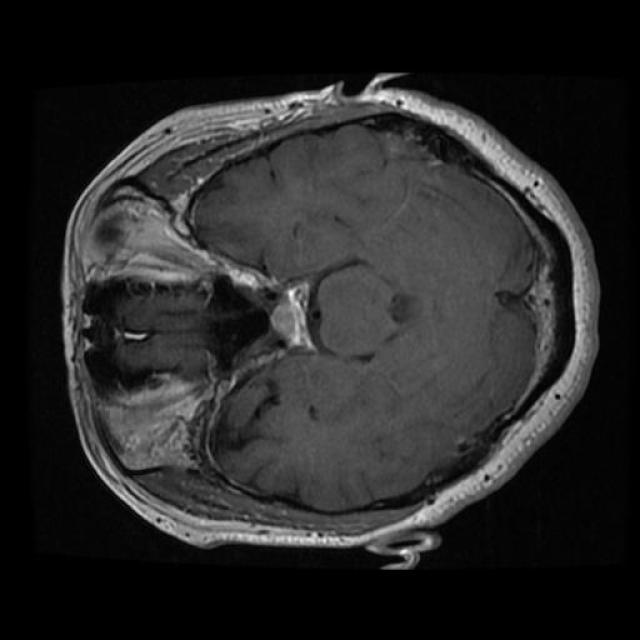Pituitary: (269, 283, 314, 350)
